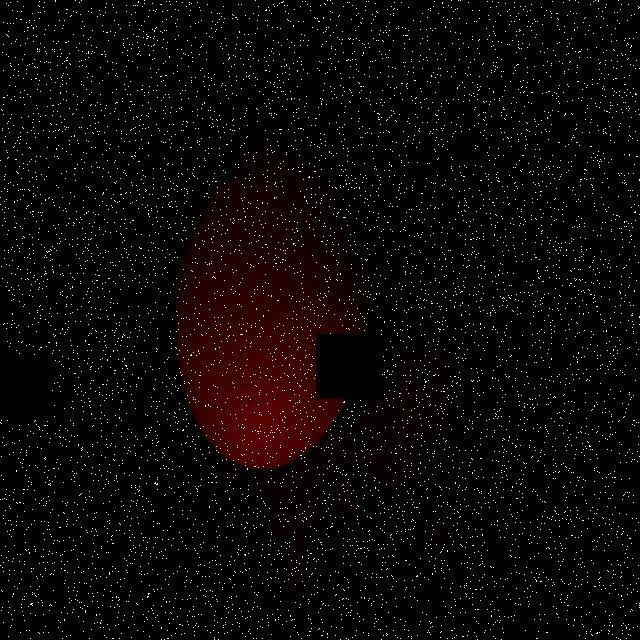egg: (159, 156, 381, 478)
